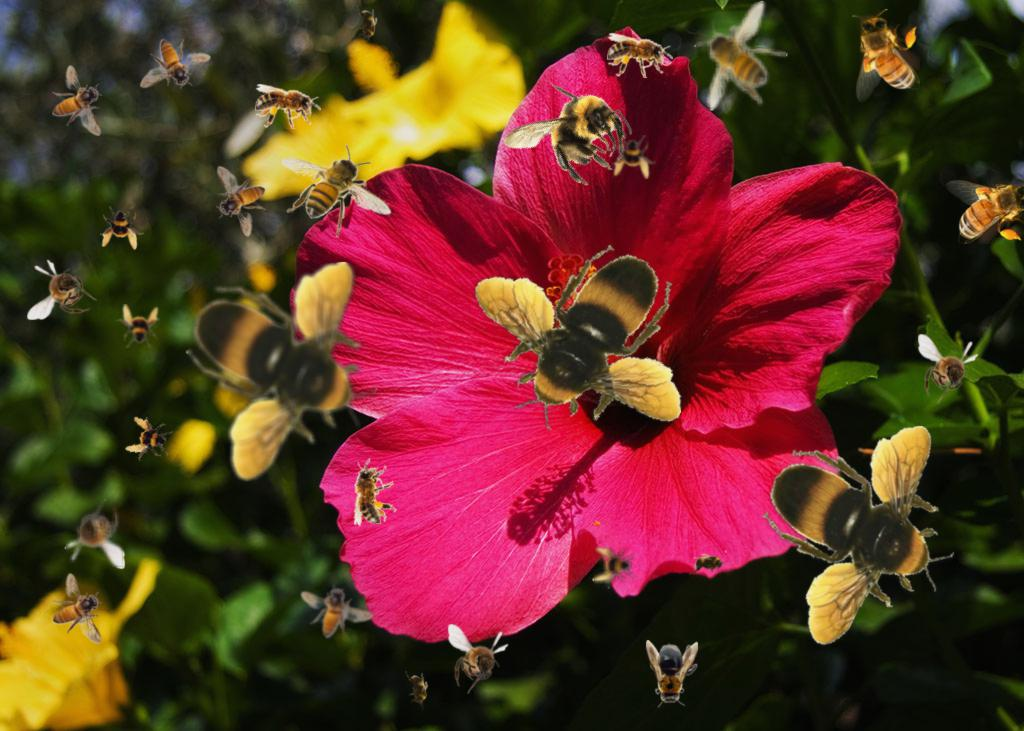Bee: (458, 229, 700, 446), (186, 262, 377, 482), (763, 426, 954, 646), (489, 58, 646, 213), (694, 0, 788, 111), (281, 144, 392, 238), (288, 568, 376, 653), (852, 9, 920, 102), (946, 176, 1024, 244), (64, 499, 125, 569), (918, 334, 979, 404), (448, 624, 509, 694), (27, 259, 97, 320), (344, 455, 400, 528), (52, 573, 102, 644), (216, 166, 266, 237), (52, 65, 102, 136), (140, 39, 211, 89), (646, 640, 698, 708), (255, 84, 321, 129), (607, 33, 673, 78), (123, 414, 175, 466), (592, 545, 636, 589), (612, 135, 656, 179), (100, 206, 144, 250), (116, 304, 160, 348), (404, 668, 432, 712), (356, 5, 378, 45), (689, 553, 729, 575)
